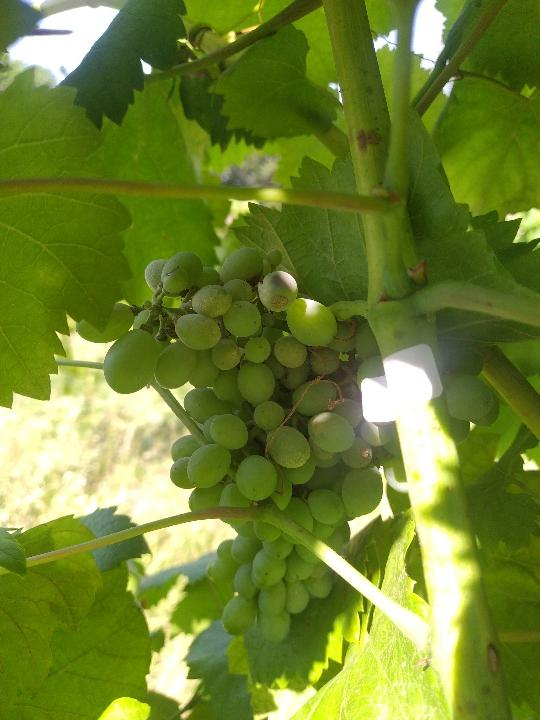grape: (71, 240, 502, 649)
